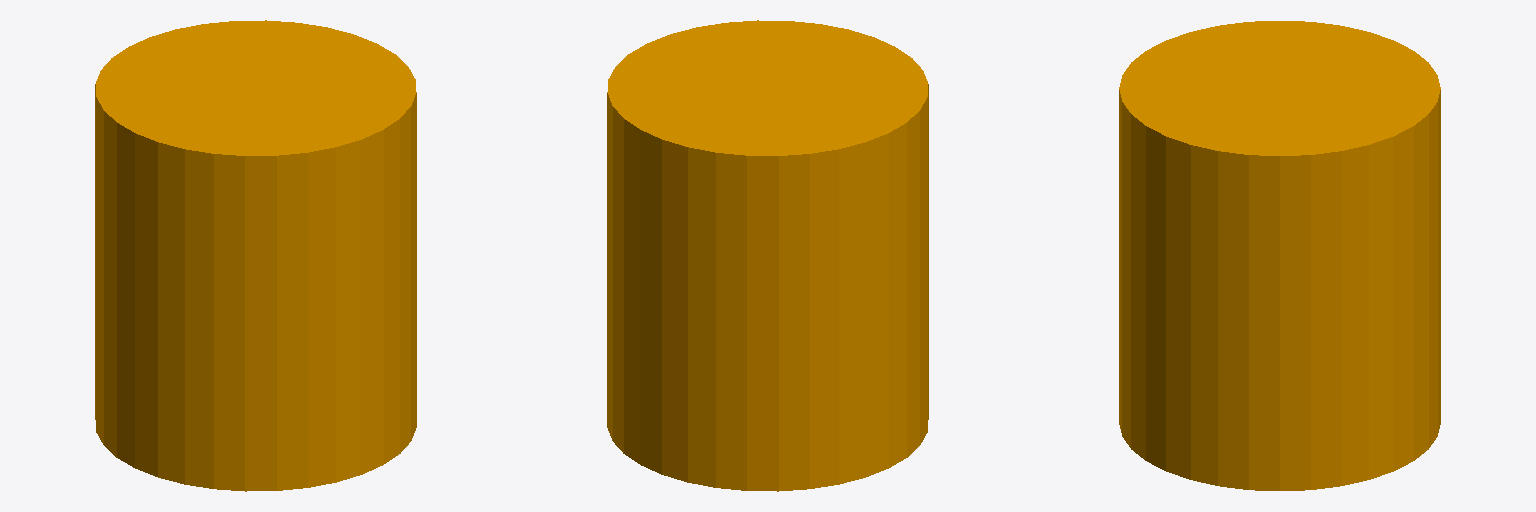
The robot description file, URDF, robot "object":
<robot name="object">
  <link name="object">
    <visual>
      <origin xyz="0 0 0" />
      <geometry>
        <cylinder length="0.09200000000000003" radius="0.04" />
      </geometry>
    </visual>

    <collision>
      <origin xyz="0 0 0" />
      <geometry>
        <cylinder length="0.09200000000000003" radius="0.04" />
      </geometry>
    </collision>

    <inertial>
      <mass value="0.05" />
      <inertia ixx="0.0001" ixy="0.0" ixz="0.0" iyy="0.0001" iyz="0.0" izz="0.0001" />
    </inertial>
  </link>
</robot>

--- Render facts (derived) ---
Views: 3 orthographic renders of the robot side by side, from view 1: azimuth 30°, elevation 25°; view 2: azimuth 150°, elevation 25°; view 3: azimuth 270°, elevation 25°.
Model object with 1 links and 0 joints (none), rooted at object, posed every joint at zero.
Links seen in each view (by area): view 1: object; view 2: object; view 3: object.
Boxes of the visible links, box(x1,y1,x2,y2) form: object: box(95, 20, 416, 491); object: box(607, 20, 928, 491); object: box(1119, 21, 1440, 490).
Bounding box of the posed robot: 0.08 × 0.08 × 0.092 m (x, y, z).
Geometry: primitives only (box / cylinder / sphere), no mesh files.